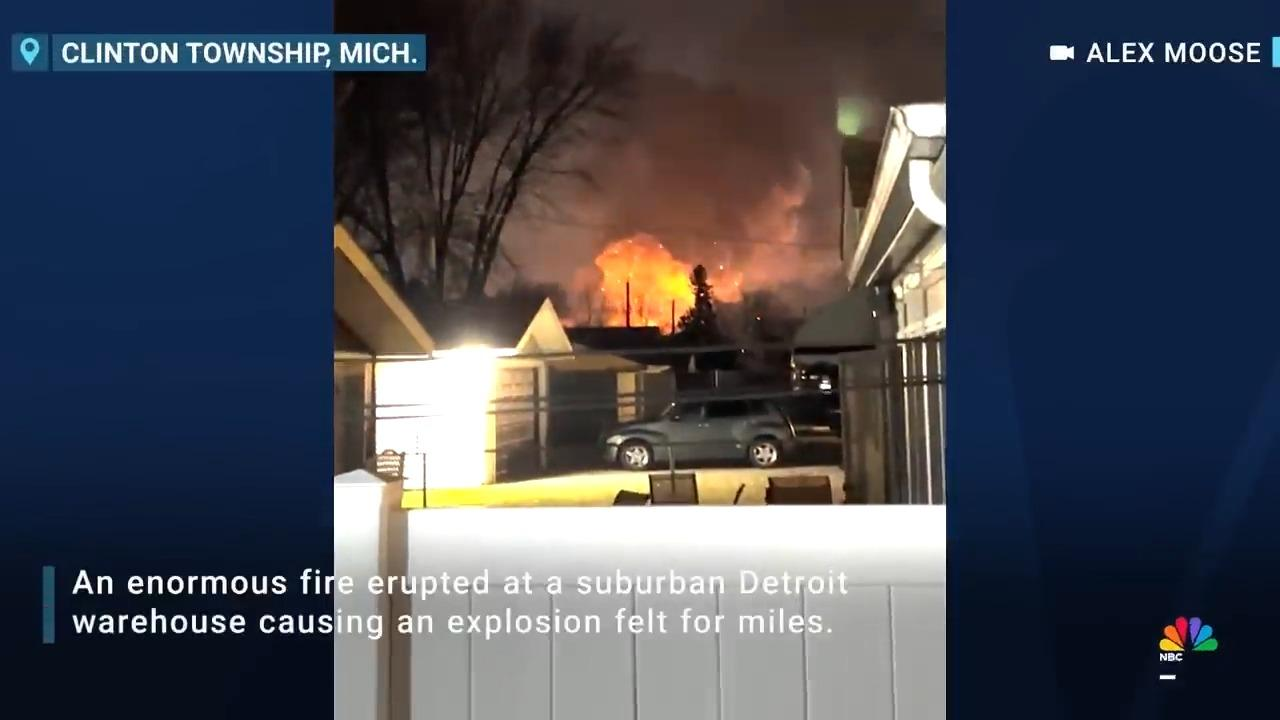fire: (579, 226, 725, 340)
